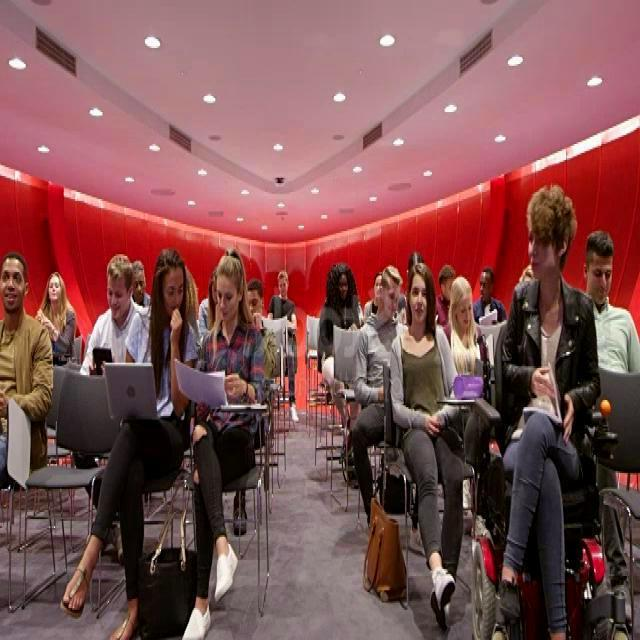Looking away: (529, 220, 559, 280), (584, 246, 614, 306), (160, 263, 186, 324), (214, 270, 240, 324), (106, 270, 130, 322), (382, 270, 402, 320), (454, 291, 473, 330), (478, 269, 494, 303)
Looking forward: (0, 256, 28, 311), (410, 272, 430, 328), (46, 271, 64, 307), (335, 267, 349, 304), (276, 273, 290, 298)
